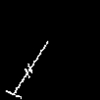treble_crochet: (6, 41, 47, 96)
